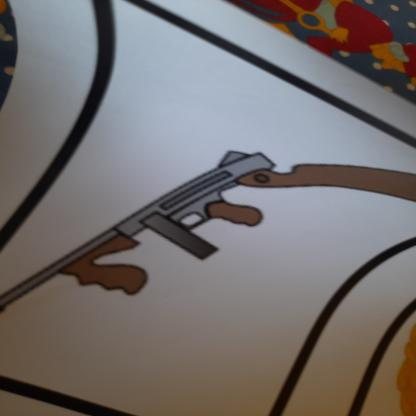Bootlegger: (1, 140, 416, 325)
